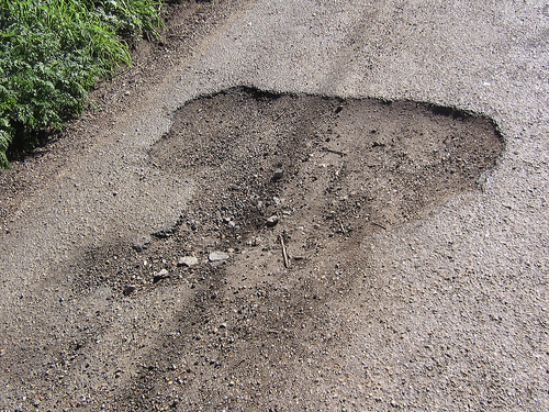pothole: (127, 80, 508, 291)
